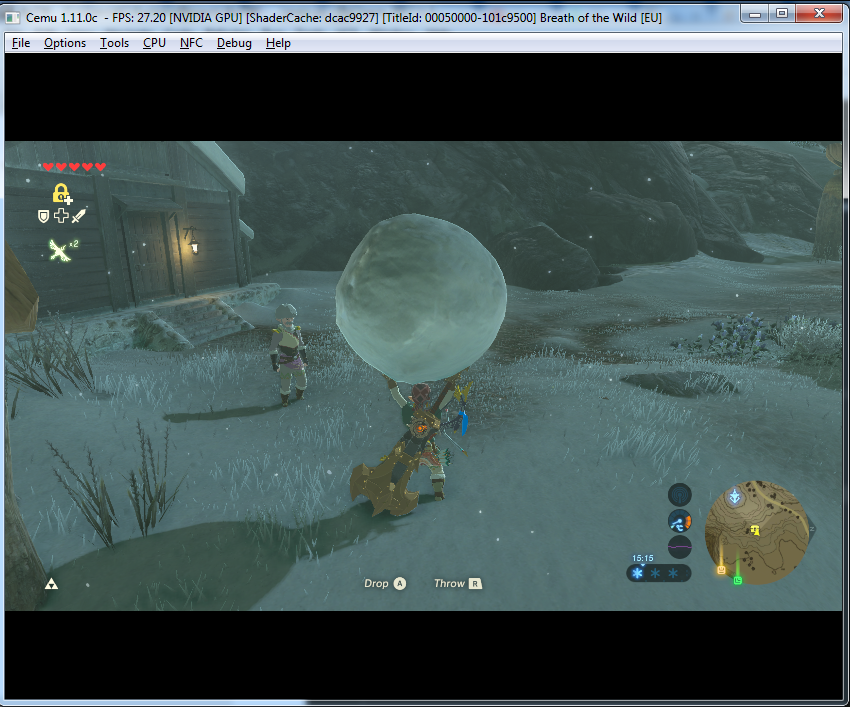dude: (267, 303, 316, 408)
link: (344, 368, 483, 523)
snowball: (329, 212, 509, 390)
